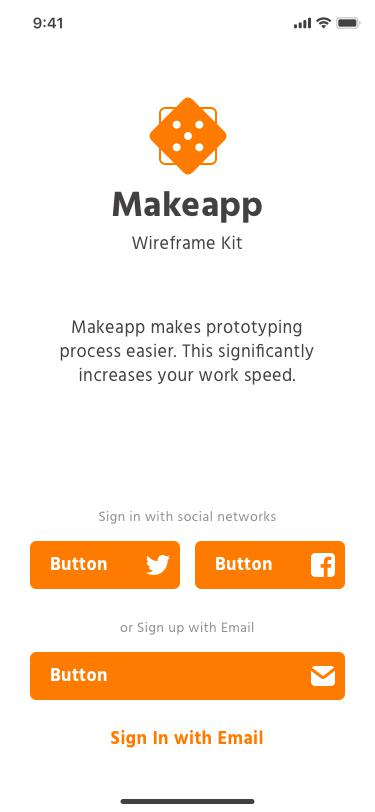Image: (150, 97, 228, 176)
Text: (61, 320, 315, 385), (113, 191, 263, 225), (110, 729, 264, 748), (99, 511, 277, 525), (121, 621, 254, 637), (131, 236, 243, 251)
TextButton: (30, 652, 345, 701), (31, 541, 181, 590), (195, 541, 345, 589)
UpperTaskBar: (33, 17, 361, 31)
